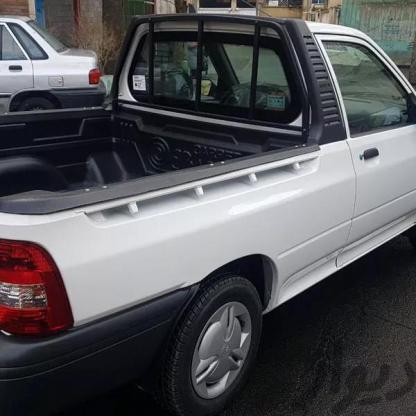Car: (0, 14, 416, 416), (0, 9, 126, 133)
